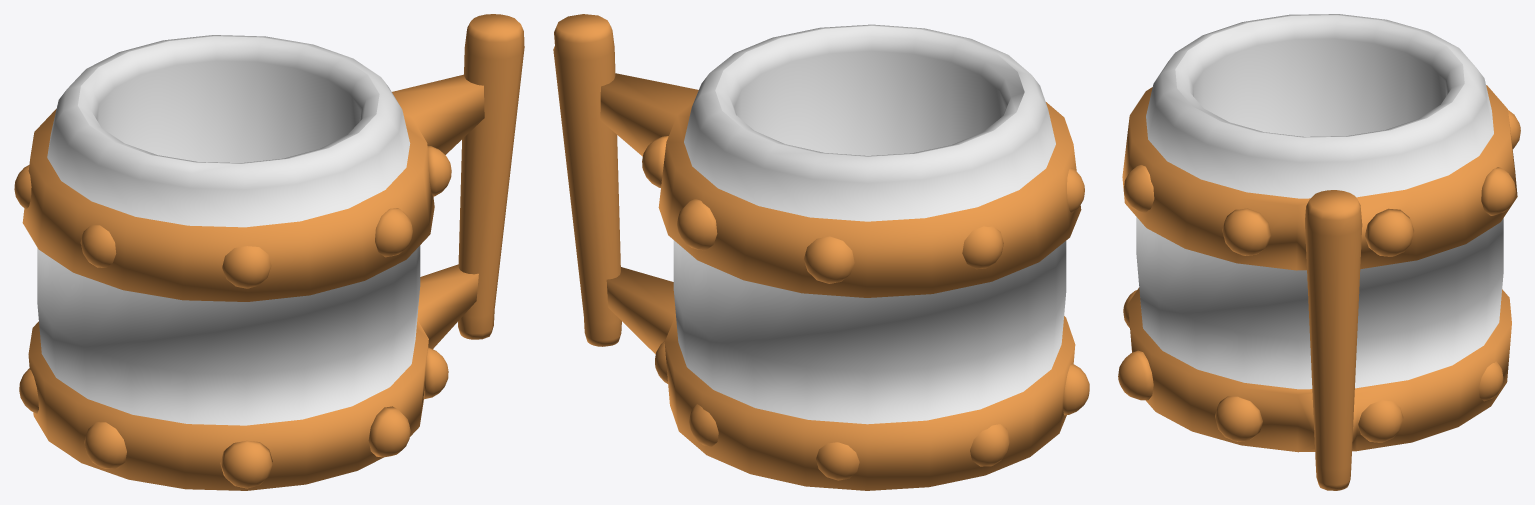
Rendered from Mug2.fbx.
3 renders of one model, left to right at view 1: azimuth 30°, elevation 25°; view 2: azimuth 150°, elevation 25°; view 3: azimuth 270°, elevation 25°, orthographic. The views are drawn at different scales.
Visible parts, largest first — view 1: Cylinder.048; view 2: Cylinder.048; view 3: Cylinder.048.
Part boxes in pixels (box(x1,y1,x2,y2)): Cylinder.048: box(14, 14, 524, 490); Cylinder.048: box(553, 14, 1089, 490); Cylinder.048: box(1118, 14, 1520, 490).
Size of the model in its own units: 44.14 by 27.75 by 33.6.
